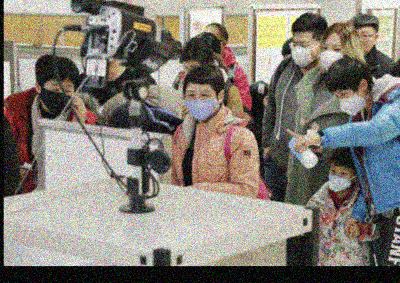with_mask: (183, 86, 218, 119), (41, 81, 74, 113), (290, 36, 318, 68), (333, 87, 362, 116), (318, 40, 344, 72), (327, 163, 351, 193)
